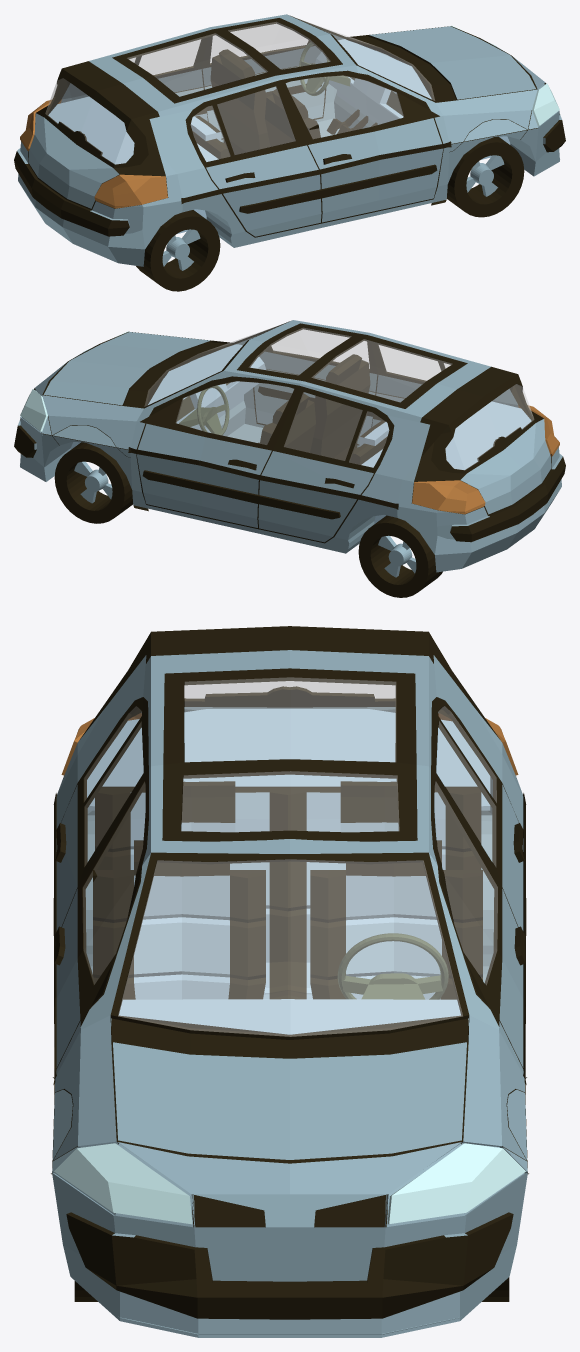
Rendered from auto_megane.glb.
3 views of the same model, one above another, from view 1: azimuth 30°, elevation 25°; view 2: azimuth 150°, elevation 25°; view 3: azimuth 270°, elevation 25° (orthographic). The views are drawn at different scales.
Visible parts, largest first — view 1: Megane_0, Vitres toi ouvrant_6, Vitres portes avant _3, Chaises avant.002_7, Vitres arrieres porte_2, Pneu avant droit.002_13, Pneu avant droit.003_15, object 12, Vitres male arriere_5, object 13, Pare brise.001_4, Petite vitres arriere portes_1 (+3 smaller); view 2: Megane_0, Vitres toi ouvrant_6, Vitres portes avant _3, Chaises avant.002_7, Vitres arrieres porte_2, Pneu avant gauche.002_14, Pneu avant gauche.003_16, Vitres male arriere_5, object 12, object 13, Pare brise.001_4, Petite vitres arriere portes_1 (+2 smaller); view 3: Megane_0, Pare brise.001_4, Chaises avant.002_7, Vitres toi ouvrant_6, object 9, object 13, Vitres portes avant _3, object 12, Vitres arrieres porte_2, volan.001_17, Petite vitres arriere portes_1, Vitres male arriere_5.
Boxes of the visible parts, box(x1,y1,x2,y2) form: Megane_0: box(14, 14, 565, 266); Vitres toi ouvrant_6: box(127, 22, 330, 96); Vitres portes avant _3: box(210, 24, 403, 138); Chaises avant.002_7: box(210, 49, 320, 155); Vitres arrieres porte_2: box(139, 40, 295, 154); Pneu avant droit.002_13: box(136, 210, 220, 291); Pneu avant droit.003_15: box(446, 136, 524, 217); object 12: box(315, 39, 431, 124); Vitres male arriere_5: box(45, 78, 133, 164); object 13: box(48, 96, 510, 234); Pare brise.001_4: box(296, 18, 434, 100); Petite vitres arriere portes_1: box(130, 58, 230, 161); Megane_0: box(14, 320, 565, 572); Vitres toi ouvrant_6: box(249, 328, 451, 401); Vitres portes avant _3: box(176, 330, 369, 444); Chaises avant.002_7: box(258, 354, 370, 460); Vitres arrieres porte_2: box(284, 345, 440, 460); Pneu avant gauche.002_14: box(358, 515, 442, 597); Pneu avant gauche.003_16: box(54, 442, 132, 523); Vitres male arriere_5: box(445, 384, 533, 469); object 12: box(149, 344, 265, 430); object 13: box(70, 378, 531, 523); Pare brise.001_4: box(144, 324, 282, 406); Petite vitres arriere portes_1: box(349, 363, 449, 467); Megane_0: box(51, 626, 528, 1337); Pare brise.001_4: box(118, 859, 462, 1036); Chaises avant.002_7: box(93, 840, 482, 999); Vitres toi ouvrant_6: box(181, 677, 399, 831); object 9: box(95, 778, 481, 999); object 13: box(87, 709, 490, 810); Vitres portes avant _3: box(83, 782, 497, 984); object 12: box(119, 999, 460, 1034); Vitres arrieres porte_2: box(85, 721, 495, 866); volan.001_17: box(337, 933, 448, 999); Petite vitres arriere portes_1: box(84, 706, 496, 802); Vitres male arriere_5: box(184, 681, 394, 697).
Size of the model in its own units: 4.25 by 1.44 by 1.8.
2 materials, 1 textured.
